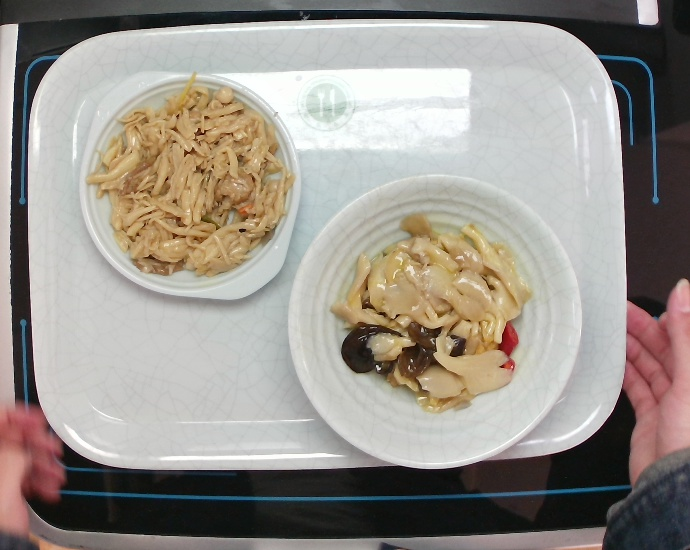JYsf-Shuang_Er_Pan: (77, 67, 302, 303)
JYsf-Xiao_Tang_Wan: (283, 169, 585, 473)
